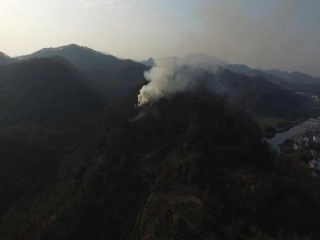smoke: (134, 51, 231, 114)
